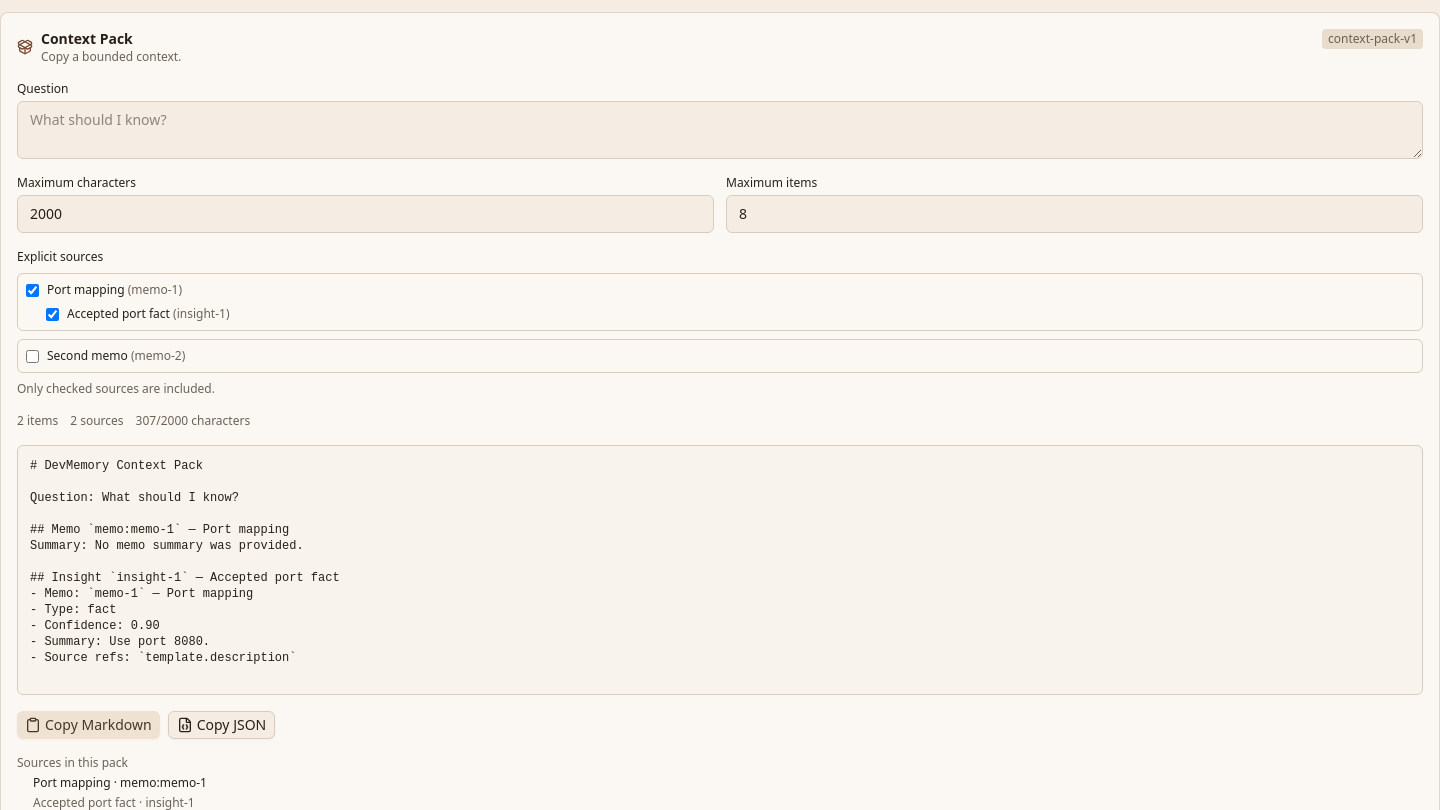
AI Memo Context Pack › allows only explicitly checked visible Memos and removes a revoked source
Expected: the text with test id "ai-context-pack-preview" does not show "Second memo", [17,445,1423,695]
Click the checkbox named "Memo source Second memo" at (32, 356), box [26,350,39,363]
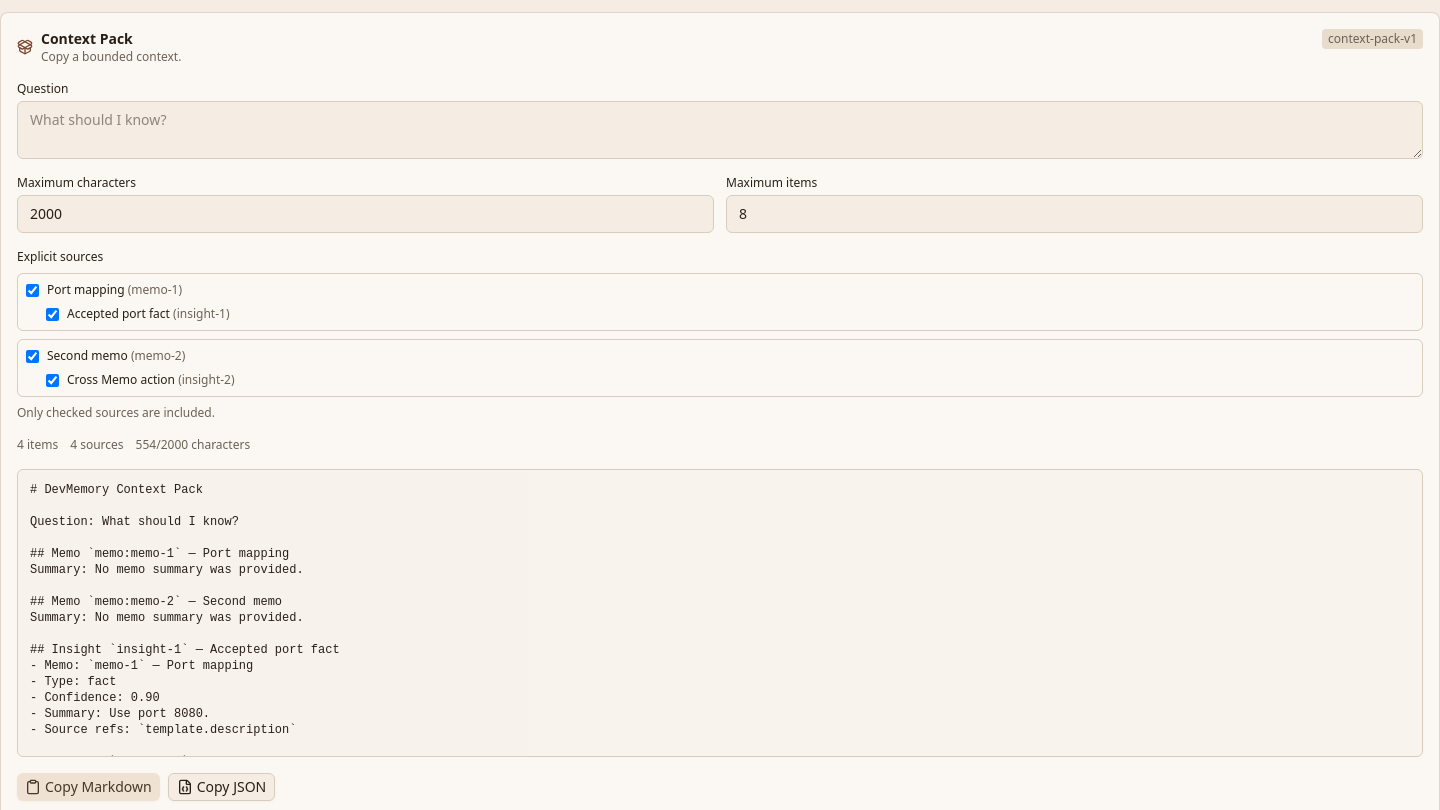
Click the checkbox named "Memo source Second memo" at (32, 356), box [26,350,39,363]
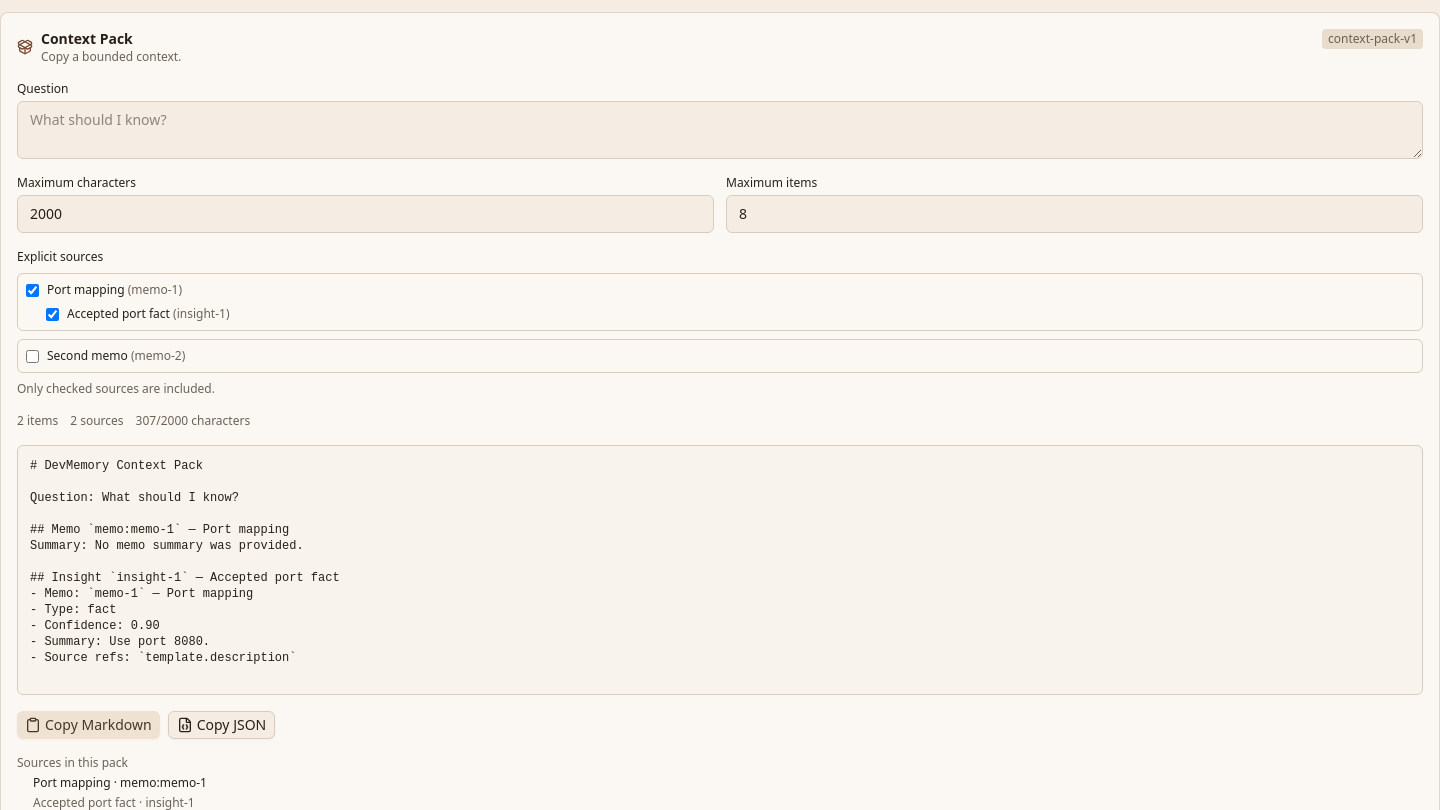
Result: the text with test id "ai-context-pack-preview" no longer shows "Cross Memo action" at [17,445,1423,695]
